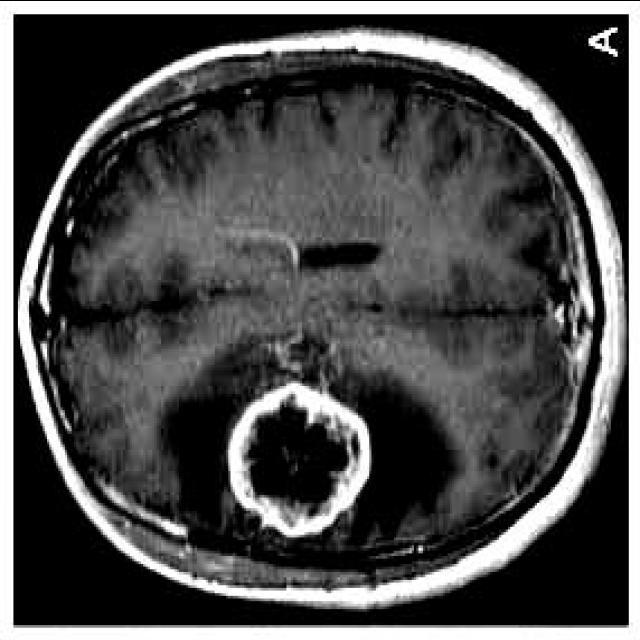tumor: (228, 380, 376, 539)
